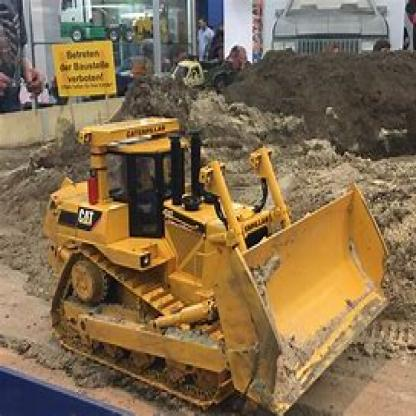bull_dozer/loader/grader: (43, 108, 393, 410)
